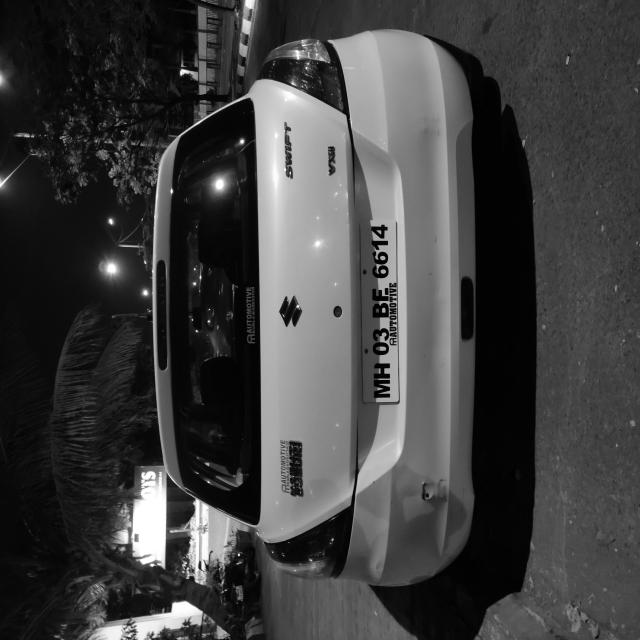car: (35, 196, 462, 640)
license-plate: (176, 484, 318, 534)
